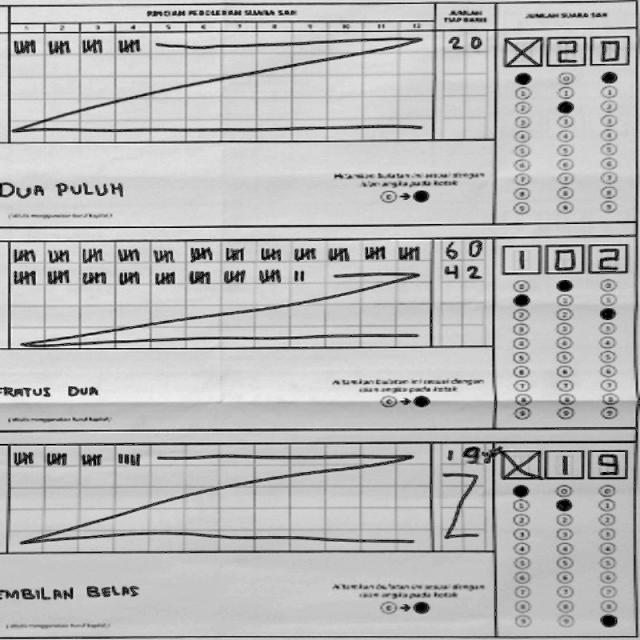Suara: (498, 29, 634, 69), (496, 238, 632, 278), (497, 444, 633, 484)
